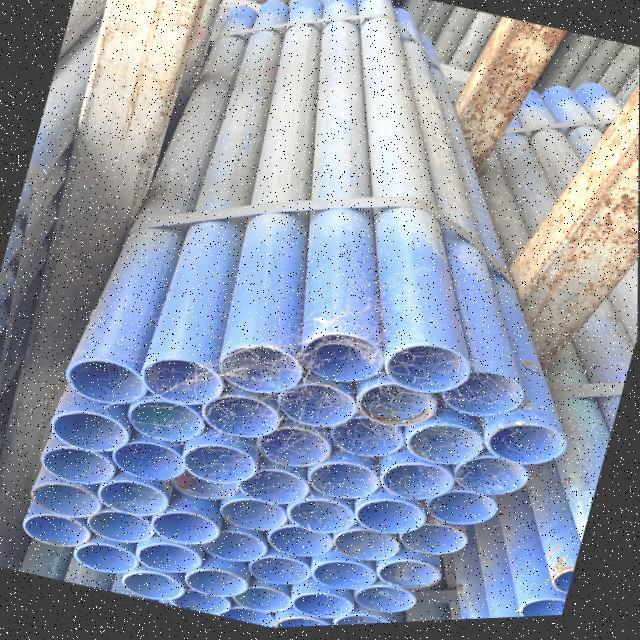pipe: (301, 333, 386, 386), (441, 371, 527, 423), (278, 375, 358, 430), (389, 345, 474, 395), (216, 348, 300, 397), (320, 419, 410, 462), (63, 359, 145, 406), (50, 409, 132, 456), (148, 358, 226, 407), (359, 382, 440, 429), (407, 420, 487, 467), (39, 443, 121, 488), (257, 425, 338, 470), (202, 392, 279, 439), (451, 457, 531, 502), (487, 423, 566, 467), (182, 441, 259, 486), (386, 520, 470, 560), (130, 397, 205, 441), (409, 494, 498, 531), (360, 492, 434, 536), (111, 440, 188, 482), (94, 480, 172, 521), (309, 461, 381, 505), (383, 462, 461, 502), (337, 526, 410, 567), (81, 509, 164, 545), (194, 530, 278, 564), (291, 498, 362, 538), (239, 471, 313, 509), (220, 497, 290, 535), (266, 527, 342, 561), (20, 513, 87, 551), (155, 511, 223, 548), (345, 585, 416, 619), (375, 560, 442, 596), (171, 470, 244, 502), (248, 555, 313, 590), (179, 569, 252, 600), (316, 560, 382, 593), (76, 541, 140, 575), (29, 485, 93, 517), (141, 543, 204, 574), (270, 604, 342, 631), (122, 571, 185, 601), (295, 592, 360, 620), (233, 586, 295, 615), (173, 588, 233, 616), (220, 604, 283, 628), (333, 616, 393, 628), (519, 607, 563, 622)
